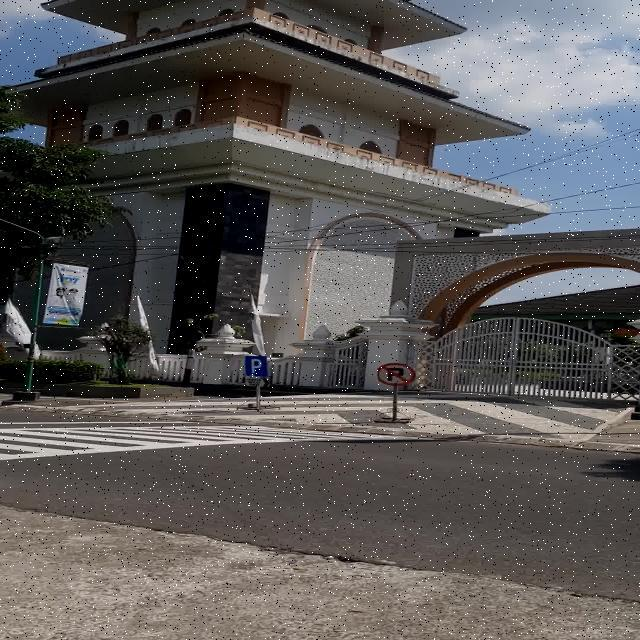Dilarang Parkir: (378, 363, 416, 386)
